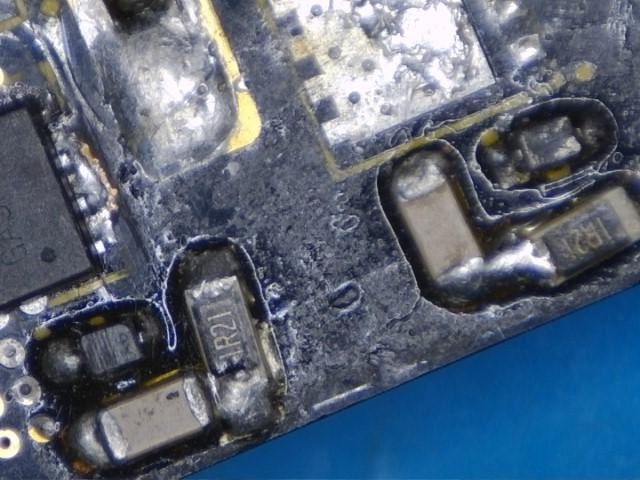pcb_defect: (30, 0, 261, 255), (435, 228, 558, 303), (183, 365, 277, 437)
